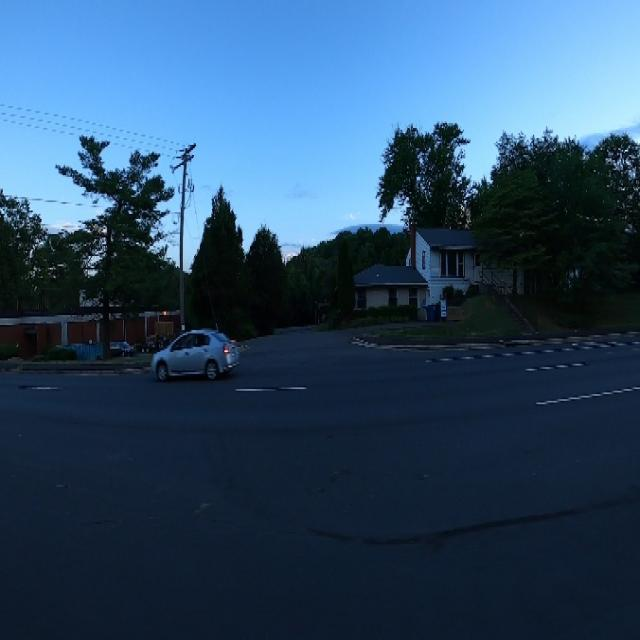cars: (150, 319, 240, 386), (107, 332, 137, 361)
